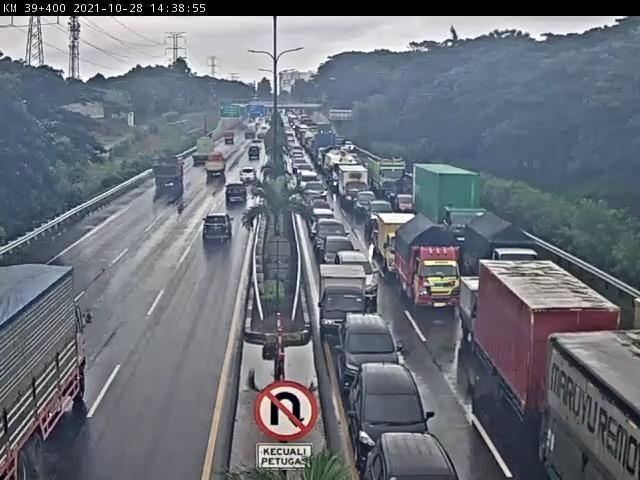car: (350, 366, 437, 465), (336, 315, 400, 399), (365, 434, 462, 480), (337, 253, 382, 303), (321, 237, 362, 278), (313, 220, 351, 259), (203, 214, 236, 242), (368, 200, 396, 232), (311, 208, 336, 238), (302, 190, 325, 222), (225, 181, 251, 205), (298, 170, 320, 197), (357, 193, 378, 218), (239, 171, 260, 188), (251, 141, 263, 154), (255, 134, 267, 145)
truck: (480, 260, 627, 447), (1, 267, 93, 480), (462, 211, 541, 304), (412, 162, 486, 253), (395, 217, 464, 314), (460, 275, 523, 352), (318, 262, 370, 338), (378, 213, 421, 278), (340, 166, 370, 208), (153, 154, 186, 188), (190, 138, 217, 169), (203, 156, 228, 184), (249, 147, 262, 164), (223, 133, 236, 147), (244, 126, 256, 141)
